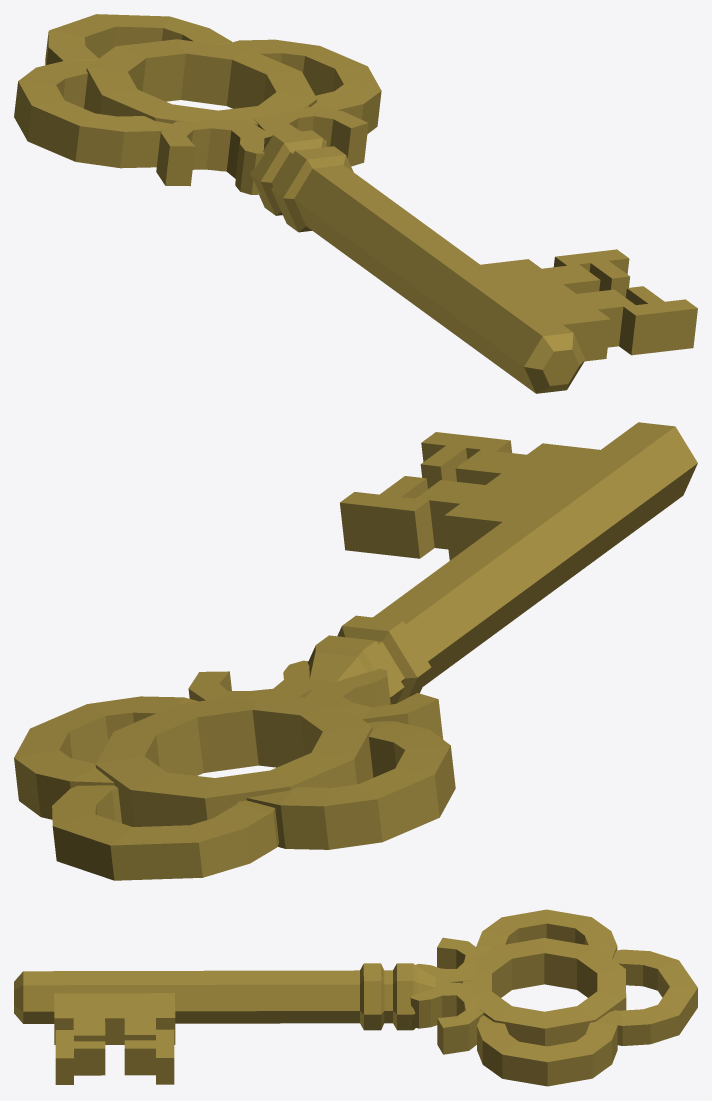
File: Key-transformed.glb
3 renders of one model, top to bottom at view 1: azimuth 30°, elevation 25°; view 2: azimuth 150°, elevation 25°; view 3: azimuth 270°, elevation 25°, orthographic. The views are drawn at different scales.
Visible parts, largest first — view 1: Key4; view 2: Key4; view 3: Key4.
Part boxes in pixels (left/top/right/bottom): Key4: left=14, top=14, right=697, bottom=393; Key4: left=14, top=422, right=697, bottom=880; Key4: left=14, top=909, right=697, bottom=1086.
Bounding box in the file's own units: 0.4282 × 0.0946 × 1.01.
